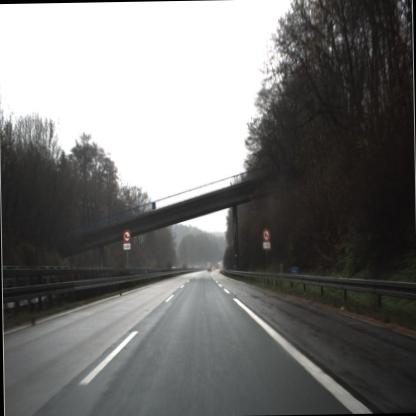prohibitory: (260, 224, 271, 245), (122, 226, 131, 242)
